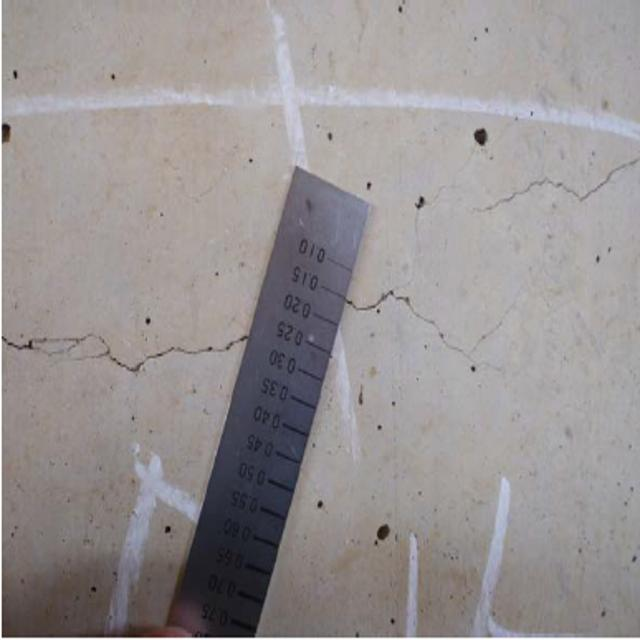crack: (356, 278, 528, 382), (4, 307, 250, 374), (460, 144, 636, 219)
